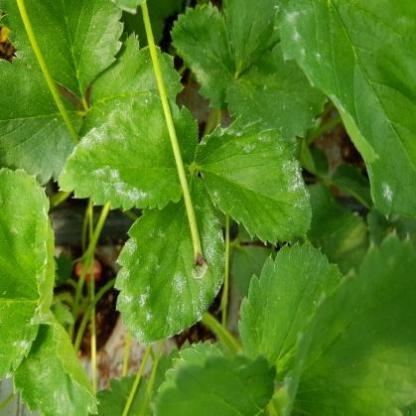Strawberry_Powdery_Mildew_Leaf: (273, 0, 415, 220), (114, 171, 227, 346), (58, 88, 200, 212), (195, 115, 312, 246), (0, 168, 56, 380), (6, 310, 99, 415)
